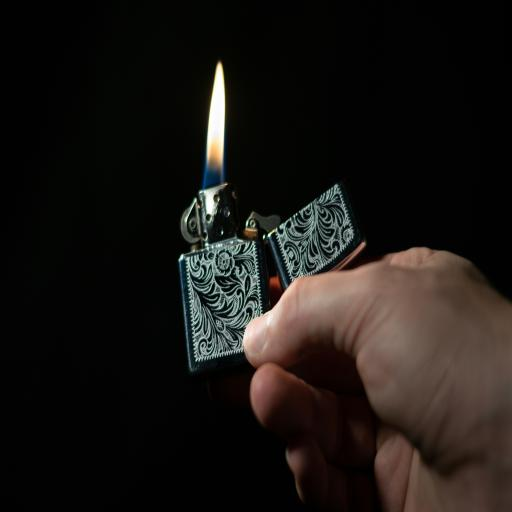fire: (191, 52, 246, 168)
lighter: (144, 63, 382, 415)
